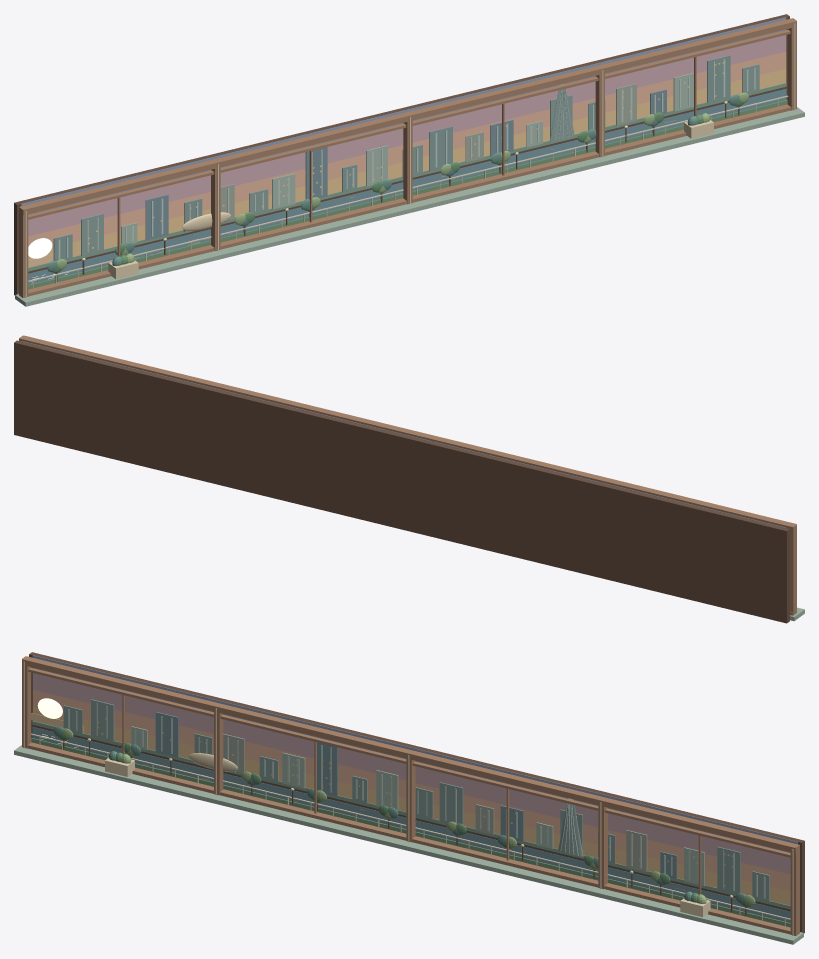
Rendered from park_kitchen_bay_window_dawn.glb.
The picture shows the model from 3 angles, top to bottom: view 1: azimuth 30°, elevation 25°; view 2: azimuth 150°, elevation 25°; view 3: azimuth 330°, elevation 25°; orthographic projection.
Parts seen in each view (by area): view 1: sky_depth_band_2, window_top_rail, continuous_celadon_stone_sill, bay_water_surface, sky_depth_band_1, window_bottom_rail, recess_dark_oak, window_transom_rail, sky_depth_band_0, sky_depth_band_3, near_baywalk_green_ribbon, far_shore_green (+17 smaller); view 2: recess_dark_oak, window_top_rail, sky_depth_band_3, main_oak_mullion; view 3: sky_depth_band_2, window_top_rail, continuous_celadon_stone_sill, bay_water_surface, sky_depth_band_1, window_bottom_rail, recess_dark_oak, window_transom_rail, sky_depth_band_0, sky_depth_band_3, near_baywalk_green_ribbon, far_shore_green (+19 smaller).
Boxes of the visible parts, left/top/right/bottom form: sky_depth_band_2: left=28, top=35, right=786, bottom=236; window_top_rail: left=21, top=18, right=796, bottom=215; continuous_celadon_stone_sill: left=15, top=107, right=804, bottom=306; bay_water_surface: left=28, top=88, right=786, bottom=284; sky_depth_band_1: left=28, top=51, right=786, bottom=247; window_bottom_rail: left=28, top=104, right=791, bottom=296; recess_dark_oak: left=14, top=14, right=789, bottom=295; window_transom_rail: left=28, top=29, right=790, bottom=219; sky_depth_band_0: left=28, top=69, right=786, bottom=267; sky_depth_band_3: left=21, top=17, right=786, bottom=214; near_baywalk_green_ribbon: left=28, top=100, right=787, bottom=289; far_shore_green: left=28, top=83, right=786, bottom=271; recess_dark_oak: left=14, top=340, right=789, bottom=623; window_top_rail: left=19, top=335, right=796, bottom=532; sky_depth_band_3: left=21, top=341, right=785, bottom=527; main_oak_mullion: left=790, top=524, right=796, bottom=615; sky_depth_band_2: left=32, top=673, right=790, bottom=874; window_top_rail: left=22, top=656, right=798, bottom=853; continuous_celadon_stone_sill: left=14, top=745, right=803, bottom=944; bay_water_surface: left=32, top=726, right=790, bottom=922; sky_depth_band_1: left=32, top=689, right=790, bottom=891; window_bottom_rail: left=27, top=742, right=790, bottom=934; recess_dark_oak: left=29, top=652, right=804, bottom=933; window_transom_rail: left=28, top=667, right=790, bottom=857; sky_depth_band_0: left=32, top=706, right=790, bottom=905; sky_depth_band_3: left=32, top=655, right=797, bottom=852; near_baywalk_green_ribbon: left=31, top=738, right=790, bottom=927; far_shore_green: left=32, top=721, right=790, bottom=909.
Size of the model in its own units: 14.84 by 1.69 by 0.492.
